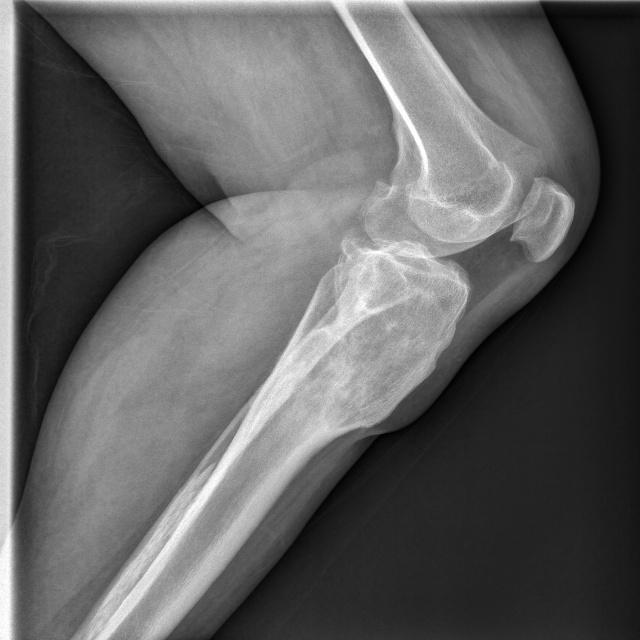Knee: (328, 110, 576, 309)
